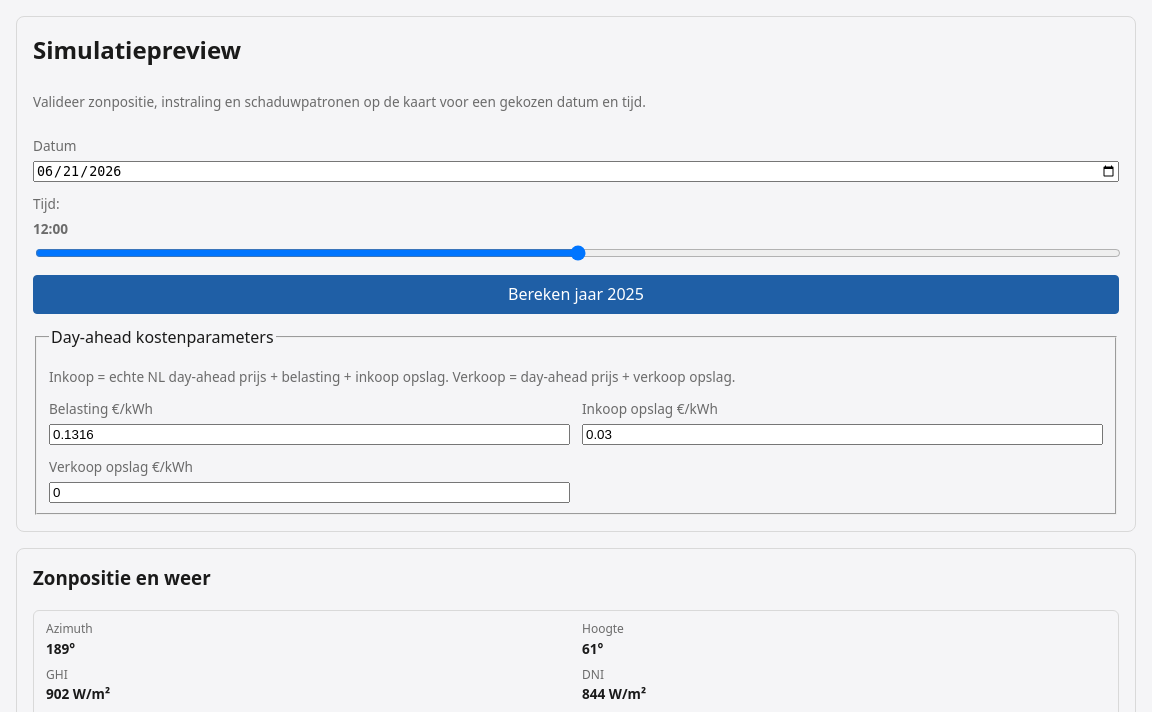
Scenario: <SimulationTab> › runs the 2025 annual worker flow and shows monthly results
Step 1. Click the button "Bereken jaar 2025" → (576, 294), box left=33, top=275, right=1119, bottom=314
(page scrolled)
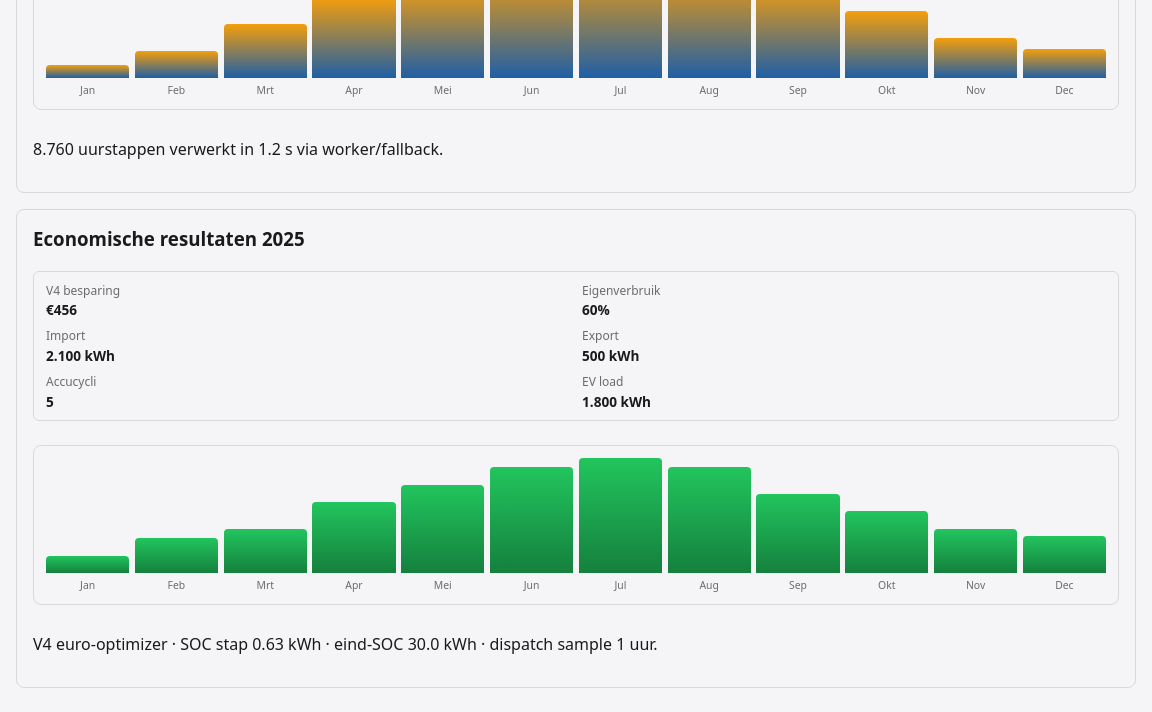
Now the element "Economische resultaten 2025" is shown
Now the text "€456" is shown, box left=46, top=300, right=77, bottom=319
Now the element named "Maandelijkse cashflow grafiek" is shown, box left=33, top=445, right=1119, bottom=605
